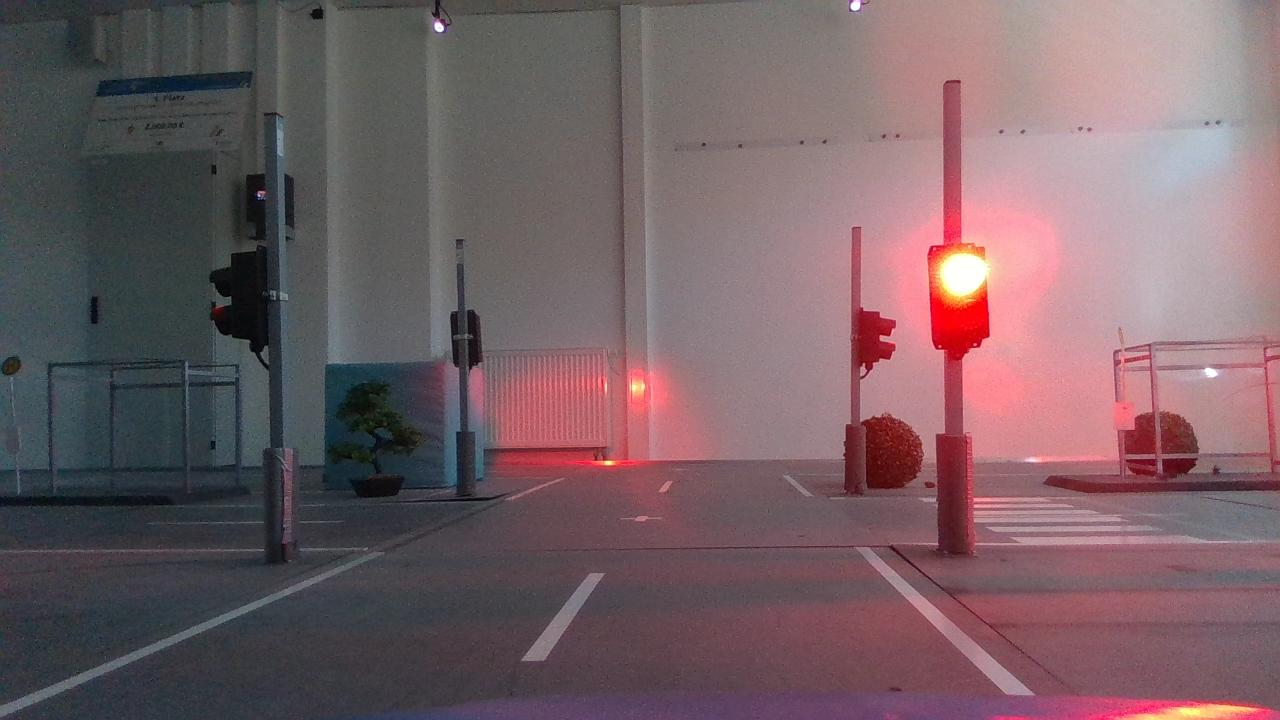traffic_light_red: (918, 230, 1009, 366)
